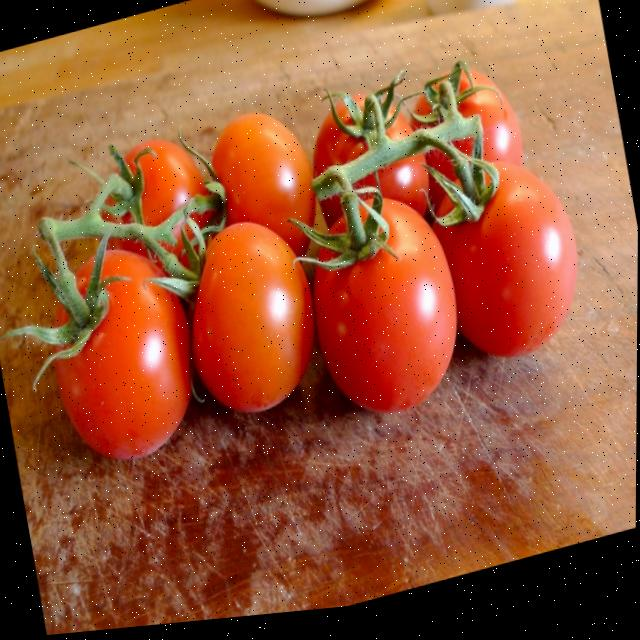ripe2: (311, 197, 456, 411), (55, 248, 190, 458), (432, 160, 576, 355), (191, 222, 313, 411), (313, 92, 429, 230), (212, 113, 316, 254), (409, 66, 523, 164), (124, 138, 206, 223)
